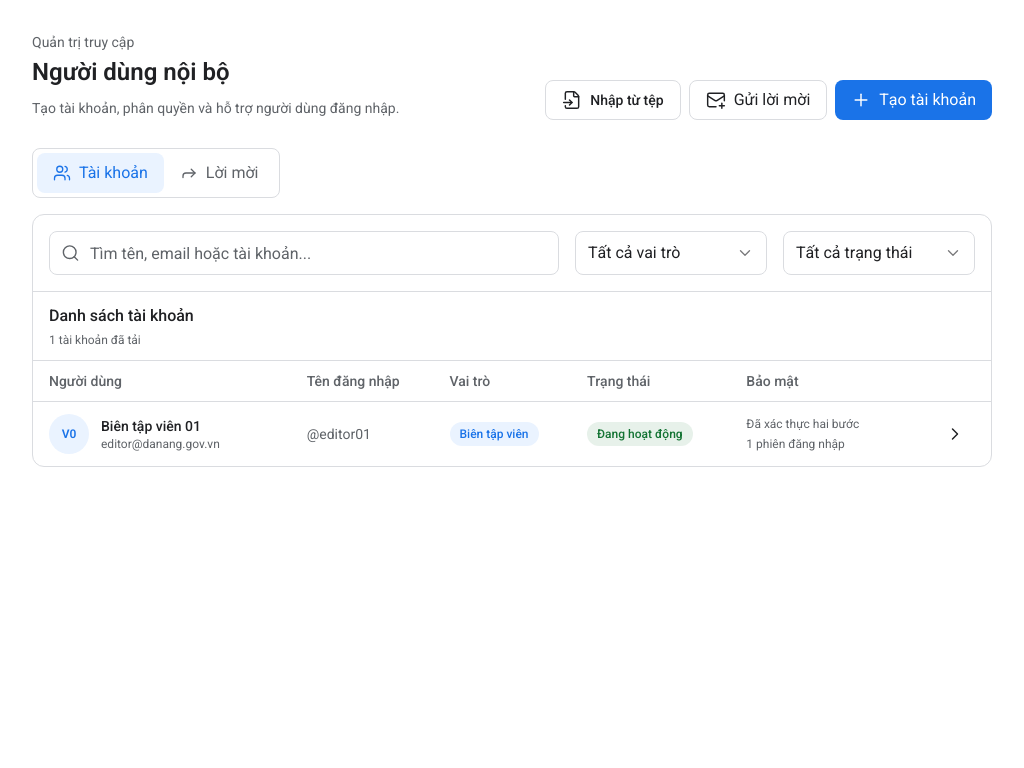
it: System Admin users screen › keeps an explicit 412 conflict in the detail instead of retrying with a new key
This screenshot has width=1024, height=768.
Click the button named "Xem chi tiết Biên tập viên 01" at (955, 434), box [935,414,975,454]
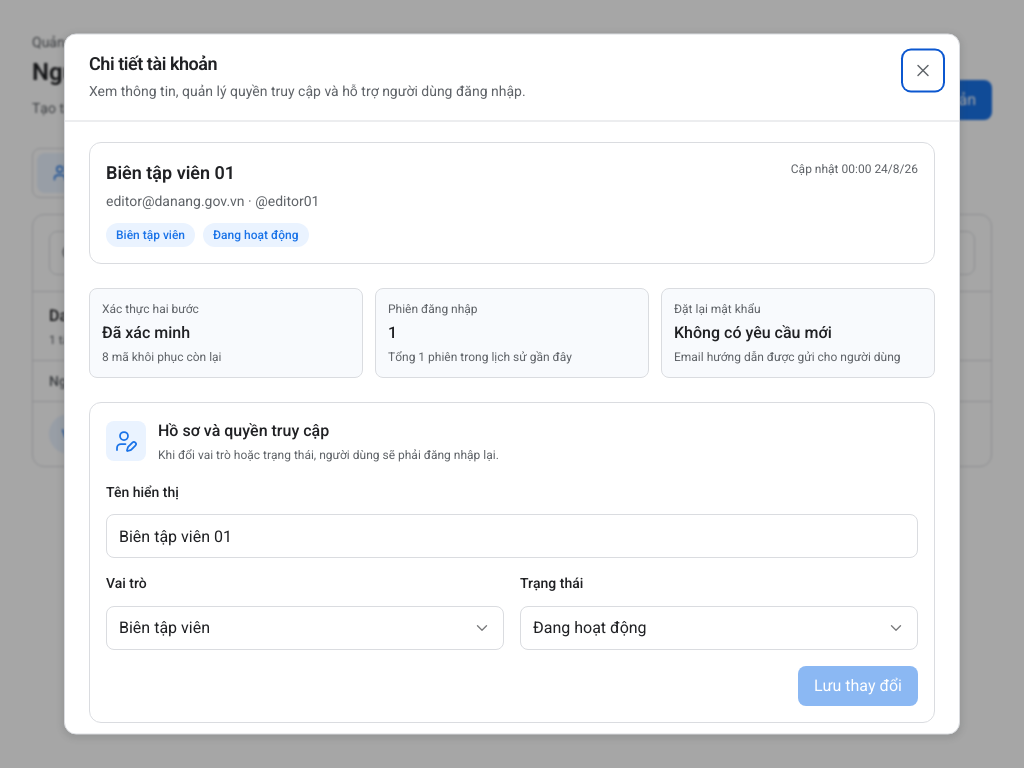
Replace the text in the field labelled "Tên hiển thị" with "Tên xung đột" at (512, 536), box [106,514,918,558]
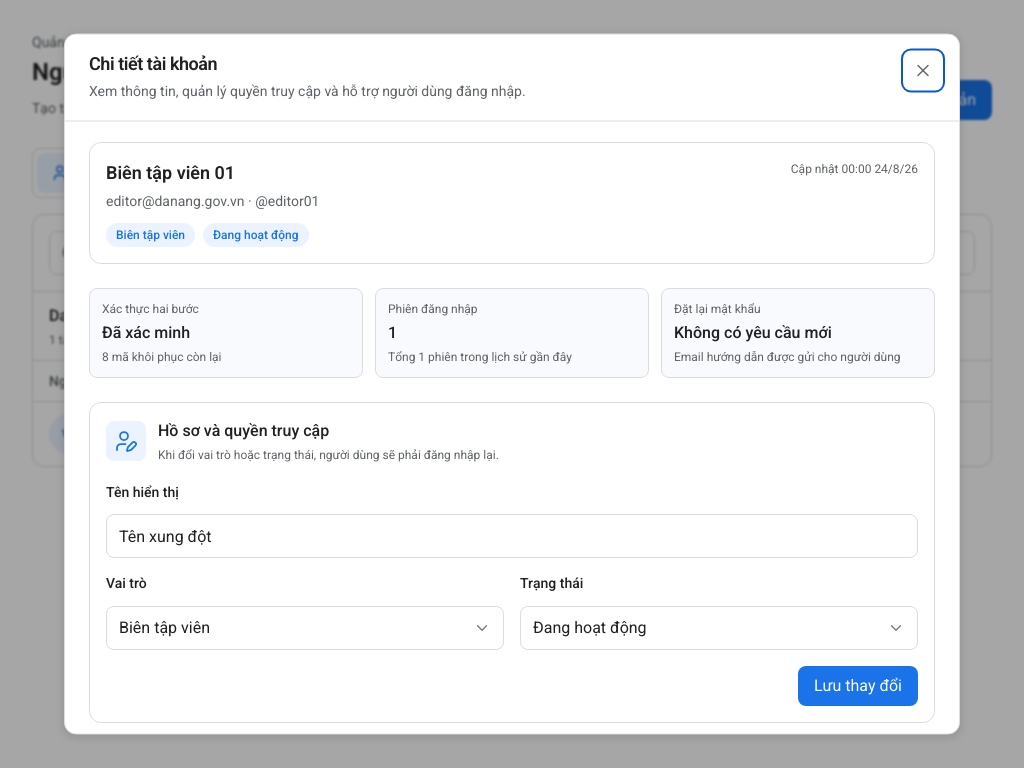
Click the button "Lưu thay đổi" at (858, 685), box [798,665,918,705]
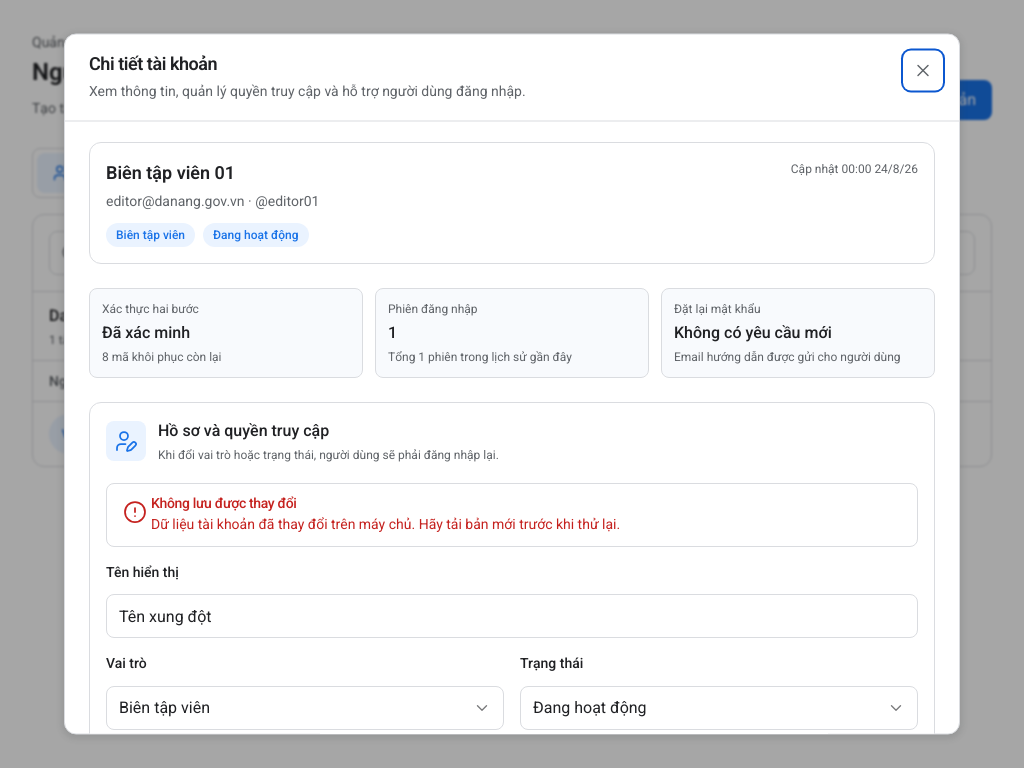
Expected: the message does not show "request-stale", [106,482,918,546]
Expected: the message shows "Dữ liệu tài khoản đã thay đổi", [151,516,620,532]
